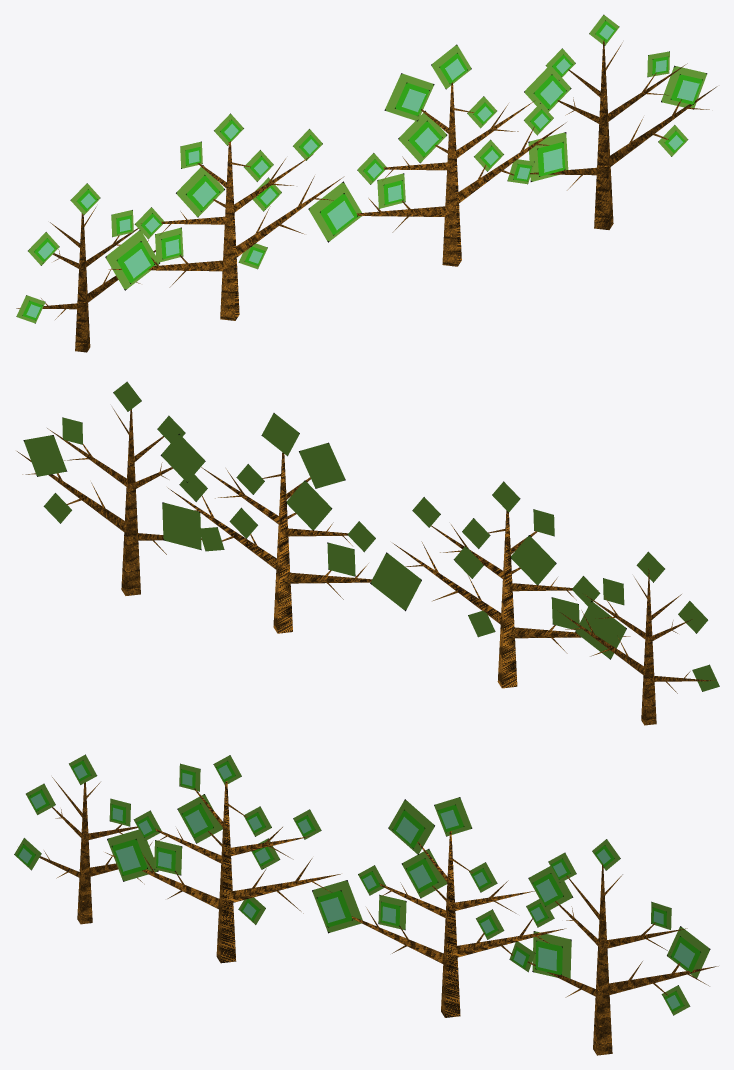
File: Trees_Leves_New_1.obj
3 views of the same model, one above another, from view 1: azimuth 30°, elevation 25°; view 2: azimuth 150°, elevation 25°; view 3: azimuth 330°, elevation 25° (orthographic).
Parts seen in each view (by area): view 1: Tree_1, Tree_4, Tree_2, Tree_5, pPlane45_ncl1_15, pPlane61, pPlane45_ncl1_13, pPlane45_ncl1_2, pPlane45_ncl1_9, pPlane68, pPlane45_ncl1_18, pPlane45_ncl1_5 (+1 smaller); view 2: Tree_1, Tree_4, Tree_2, Tree_5, pPlane45_ncl1_15, pPlane45_ncl1_2, pPlane61, pPlane45_ncl1_13, pPlane45_ncl1_9, pPlane68, pPlane45_ncl1_18, pPlane45_ncl1_20 (+3 smaller); view 3: Tree_1, Tree_4, Tree_2, Tree_5, pPlane45_ncl1_15, pPlane61, pPlane45_ncl1_2, pPlane45_ncl1_13, pPlane45_ncl1_9, pPlane45_ncl1_18, pPlane68, pPlane45_ncl1_5 (+3 smaller).
Part boxes in pixels (x1,y1,x2,y2): Tree_1: [356, 82, 566, 266]; Tree_4: [108, 120, 344, 320]; Tree_2: [517, 39, 717, 229]; Tree_5: [16, 206, 155, 352]; pPlane45_ncl1_15: [308, 181, 361, 242]; pPlane61: [105, 230, 159, 290]; pPlane45_ncl1_13: [384, 73, 434, 121]; pPlane45_ncl1_2: [528, 132, 568, 181]; pPlane45_ncl1_9: [661, 65, 707, 109]; pPlane68: [176, 165, 224, 217]; pPlane45_ncl1_18: [398, 110, 447, 163]; pPlane45_ncl1_5: [431, 44, 471, 89]; Tree_1: [167, 452, 371, 633]; Tree_4: [393, 510, 630, 688]; Tree_2: [17, 407, 201, 595]; Tree_5: [559, 568, 715, 725]; pPlane45_ncl1_15: [370, 552, 421, 611]; pPlane45_ncl1_2: [162, 502, 201, 550]; pPlane61: [575, 601, 626, 659]; pPlane45_ncl1_13: [299, 442, 345, 488]; pPlane45_ncl1_9: [23, 435, 67, 476]; pPlane68: [510, 535, 556, 585]; pPlane45_ncl1_18: [286, 480, 332, 530]; pPlane45_ncl1_20: [160, 434, 205, 482]; Tree_1: [351, 831, 566, 1017]; Tree_4: [105, 781, 340, 963]; Tree_2: [527, 863, 718, 1055]; Tree_5: [39, 777, 154, 924]; pPlane45_ncl1_15: [312, 880, 362, 933]; pPlane61: [107, 829, 158, 881]; pPlane45_ncl1_2: [532, 931, 571, 978]; pPlane45_ncl1_13: [388, 799, 434, 854]; pPlane45_ncl1_9: [667, 926, 710, 978]; pPlane45_ncl1_18: [401, 849, 447, 898]; pPlane68: [177, 794, 222, 843]; pPlane45_ncl1_5: [434, 797, 472, 836].
Bounding box in the file's own units: 524 × 153 × 18.14.
4 materials, 4 textured.
